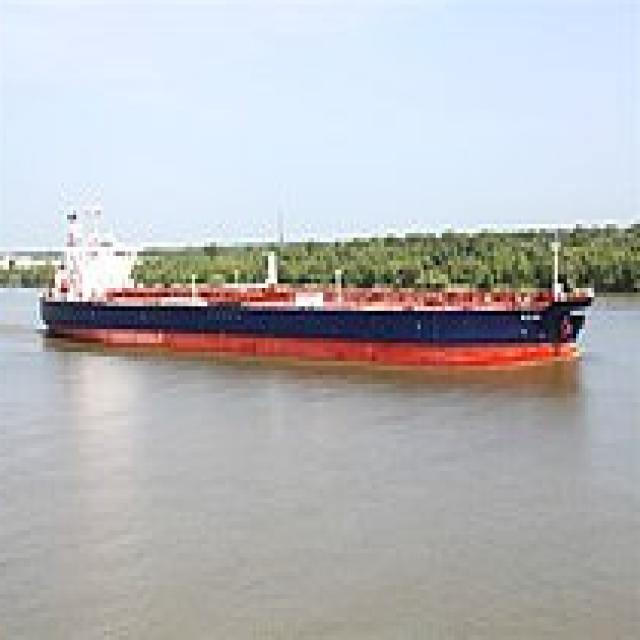Tanker: (37, 192, 600, 361)
